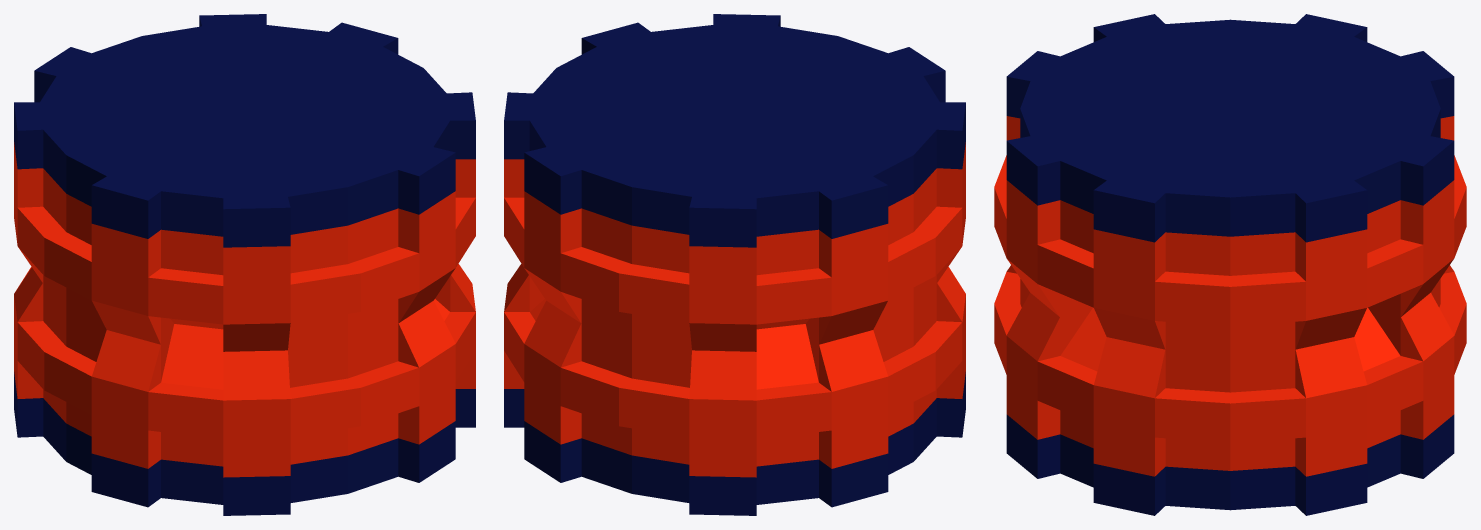
Rendered from connectorL.FBX.
3 renders of one model, left to right at view 1: azimuth 30°, elevation 25°; view 2: azimuth 150°, elevation 25°; view 3: azimuth 270°, elevation 25°, orthographic.
Visible parts, largest first — view 1: Соеденитель-Большой001; view 2: Соеденитель-Большой001; view 3: Соеденитель-Большой001.
Part boxes in pixels (<box>): Соеденитель-Большой001: <box>14,14,475,515</box>; Соеденитель-Большой001: <box>504,14,965,515</box>; Соеденитель-Большой001: <box>994,14,1466,515</box>.
Size of the model in its own units: 81.9 by 81.9 by 59.8.
